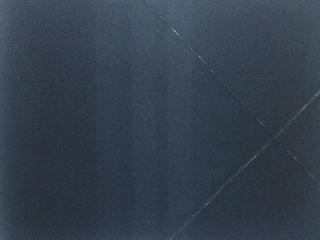crack: (146, 0, 320, 186), (170, 91, 319, 240)
